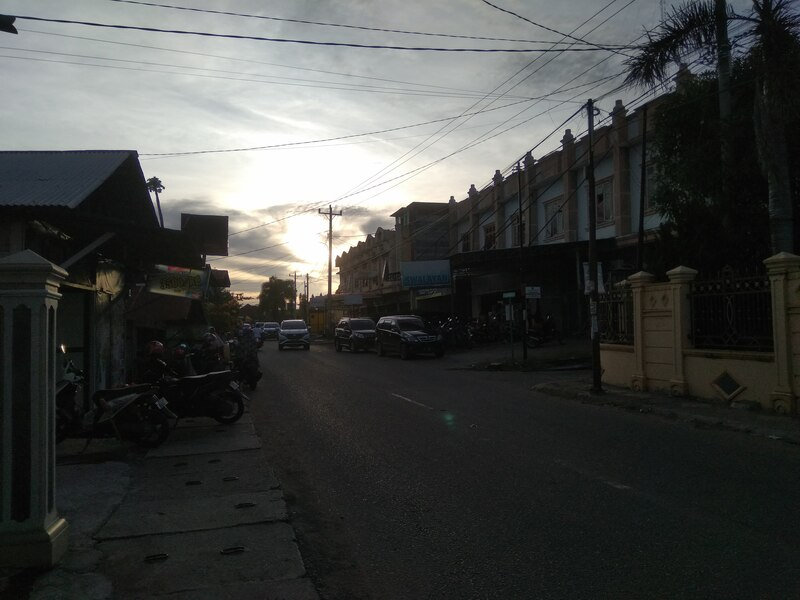car: (374, 310, 447, 363), (332, 315, 377, 357), (276, 316, 313, 357)
